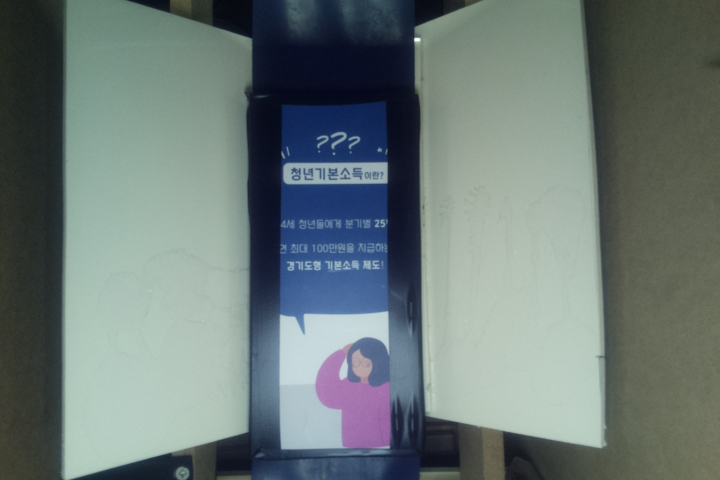book: (246, 85, 423, 465)
